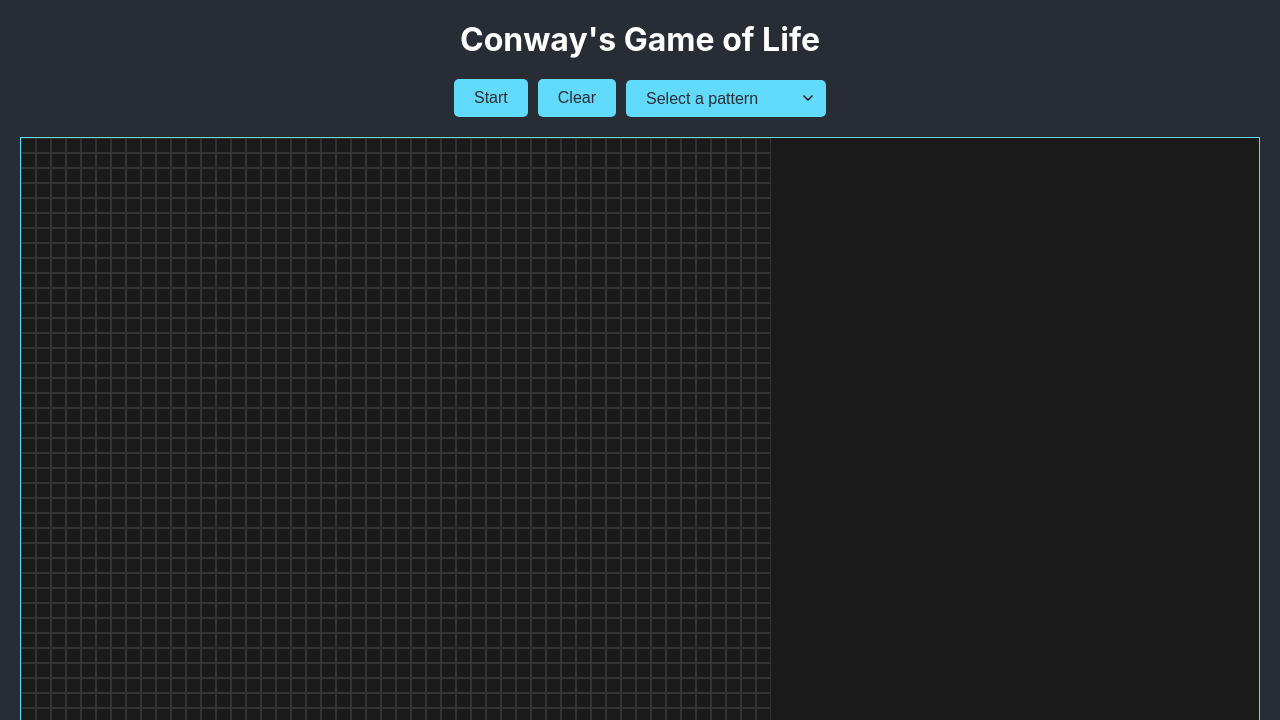
Test case: App Component › clears the grid when clear button is clicked
First select a pattern to populate the grid
Select "Glider" in the dropdown at [726, 98], box [626, 80, 826, 116]
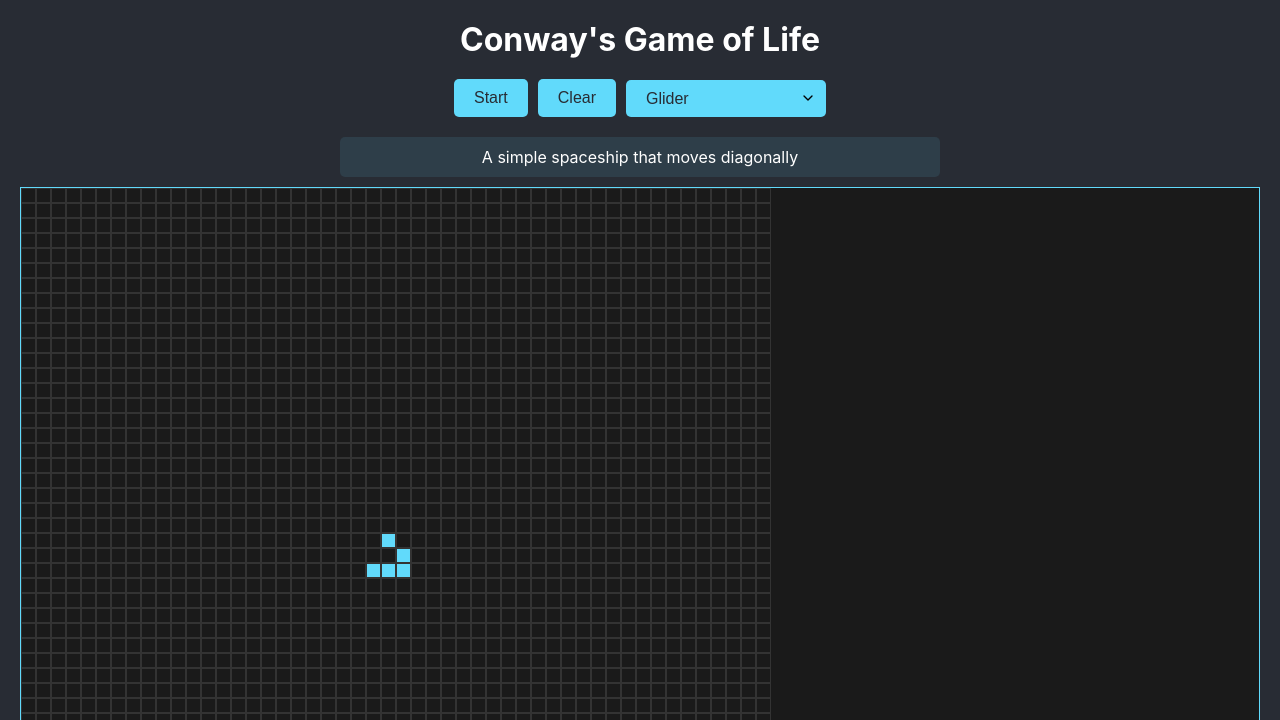
Then clear the grid
Click the button "Clear".
click(577, 98)  # box [538, 79, 616, 117]
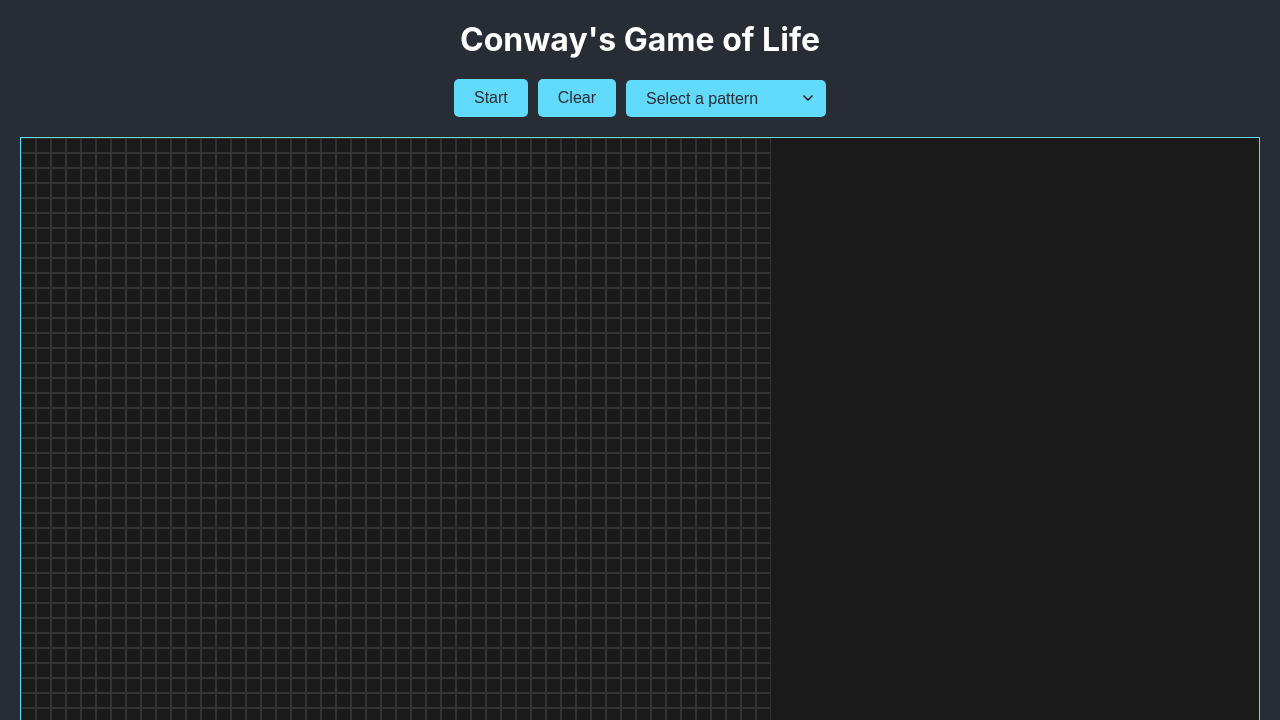
Expected: the text "A simple spaceship that moves diagonally" is gone
